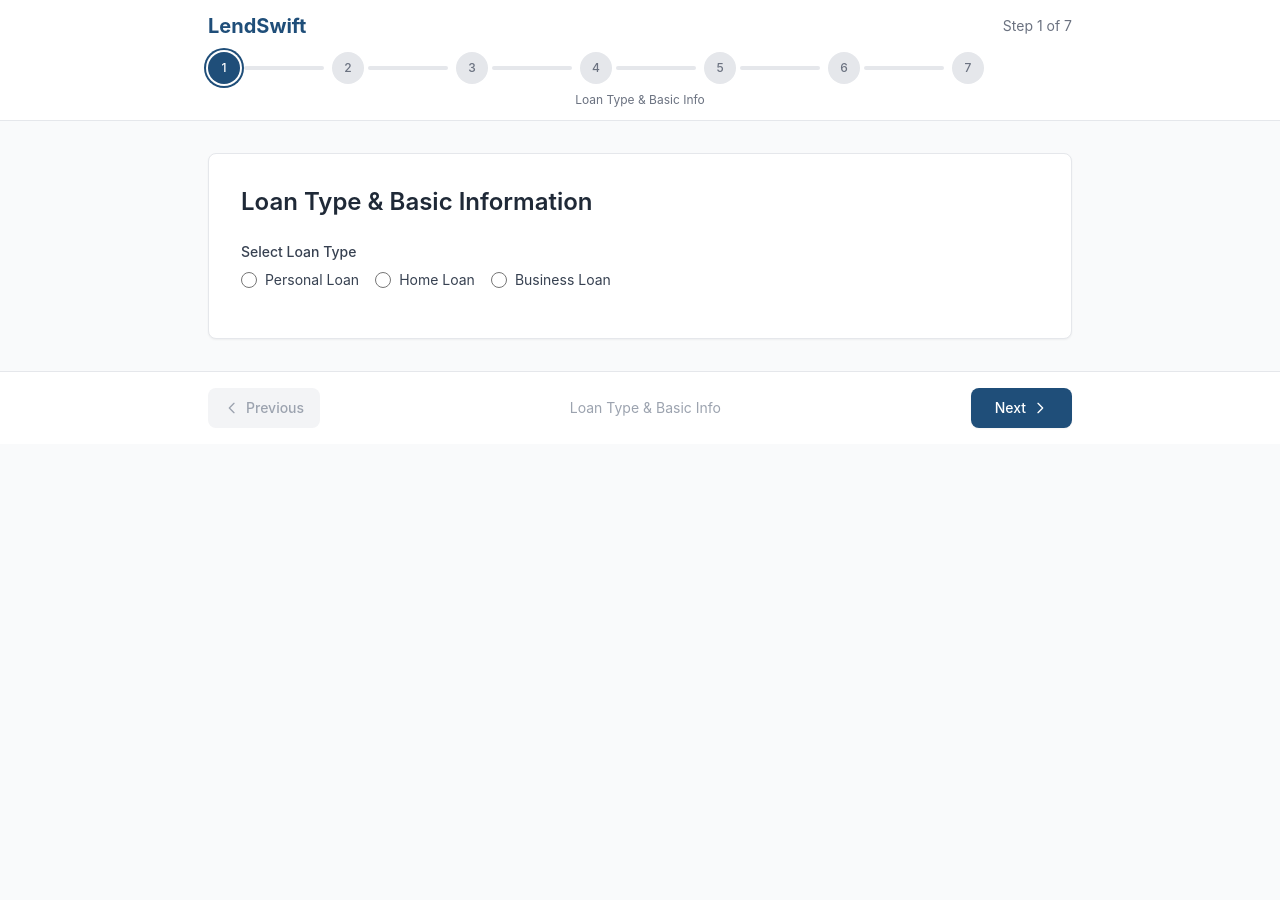
Scenario: Keyboard Navigation › completes Step 1 using only keyboard
Click the radio button with test id "step1-loan-type-Personal": (249, 280) x1=241 y1=272 x2=257 y2=288
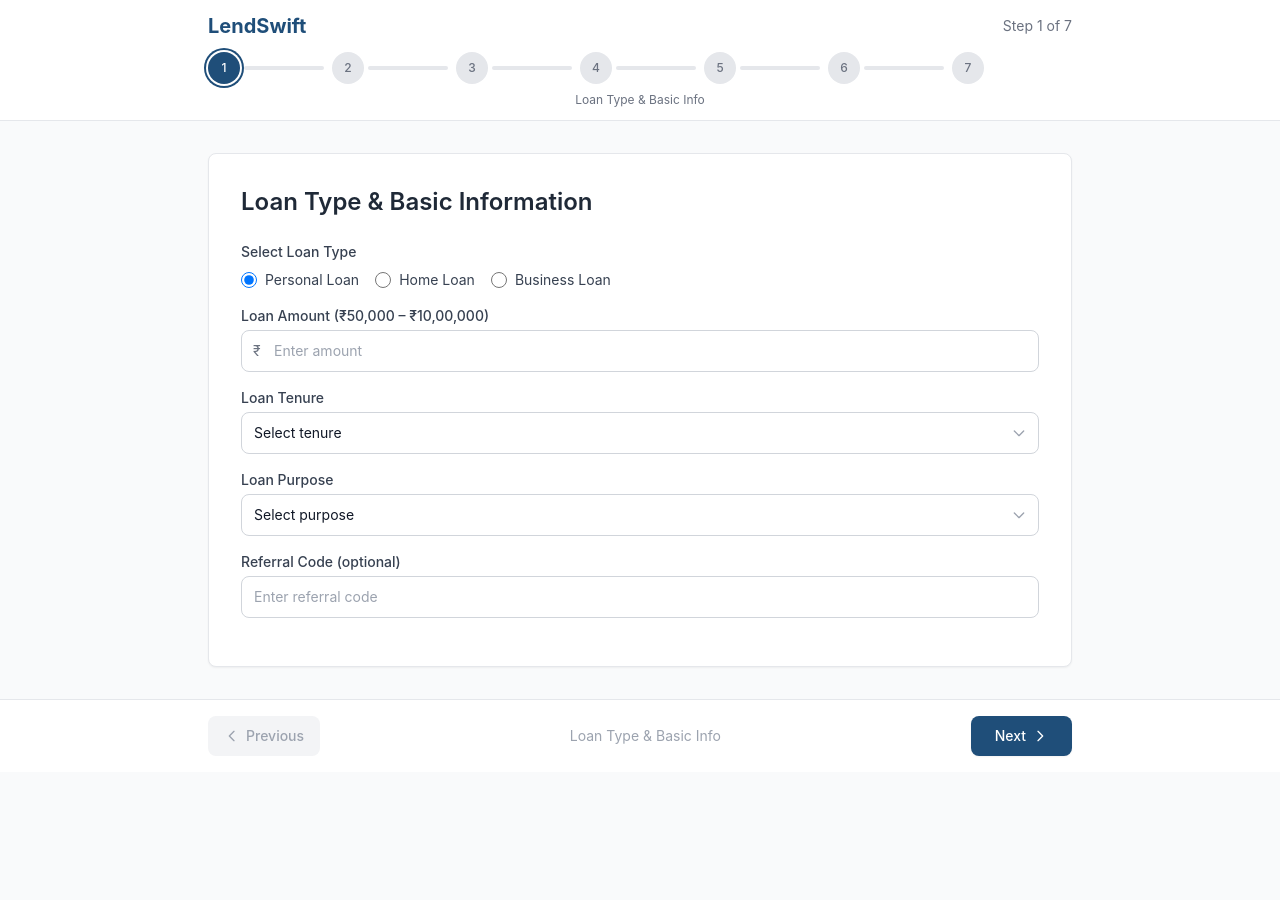
In the field labelled "Loan Amount (₹50,000 – ₹10,00,000)": (640, 351) x1=241 y1=330 x2=1039 y2=372, type "800000"
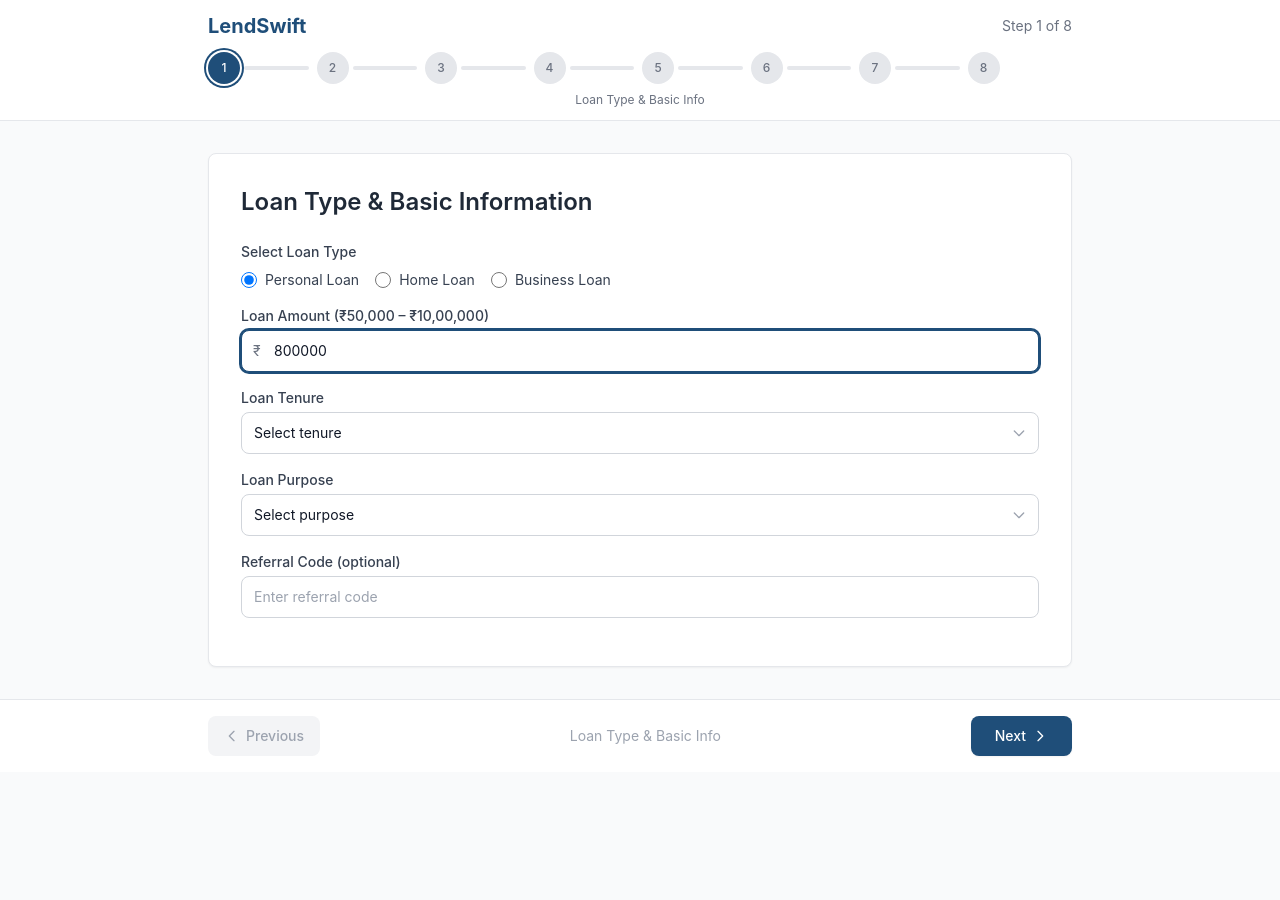
Select "36 months (3yr)" in the dropdown labelled "Loan Tenure": (640, 433) x1=241 y1=412 x2=1039 y2=454
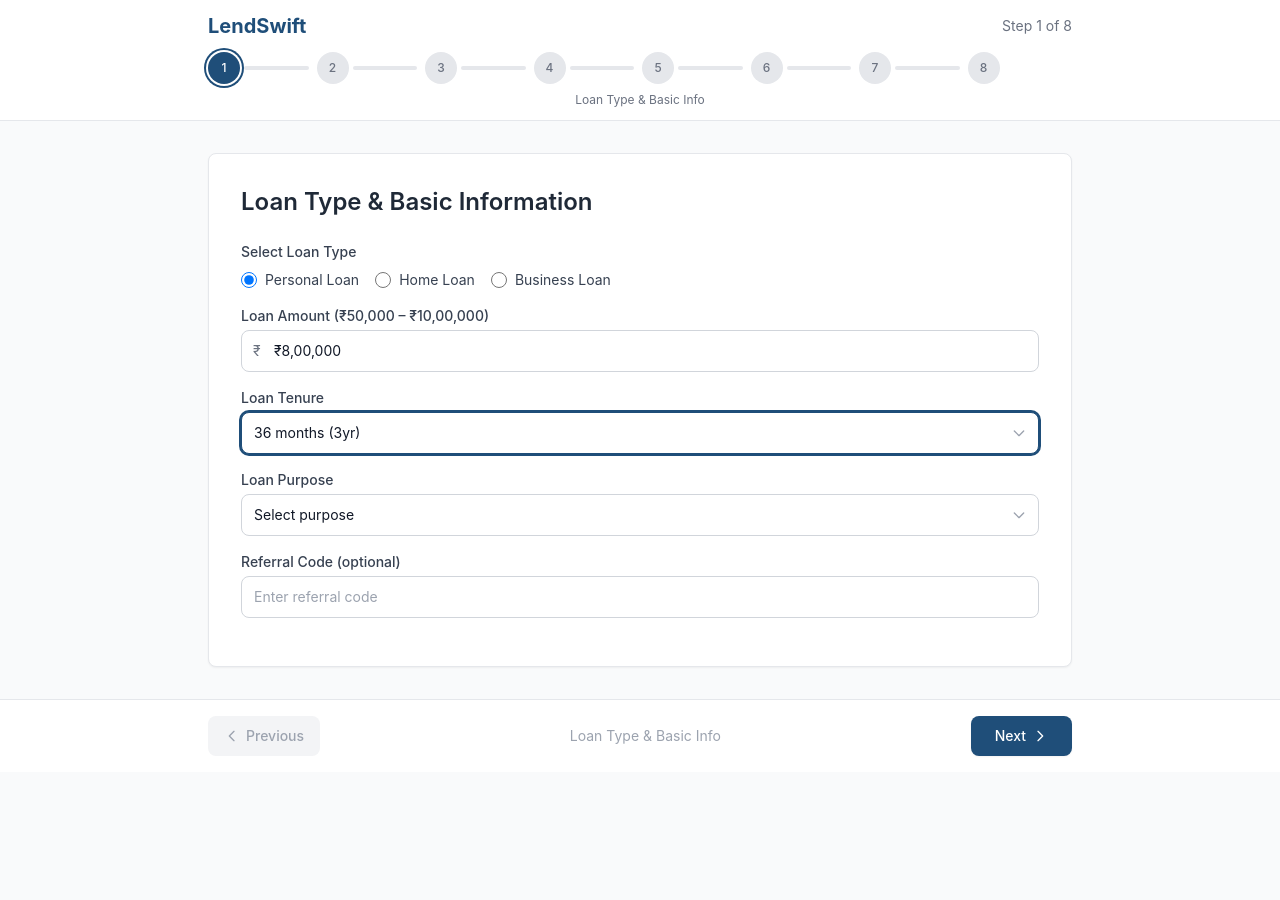
Select "Debt Consolidation" in the dropdown labelled "Loan Purpose": (640, 515) x1=241 y1=494 x2=1039 y2=536
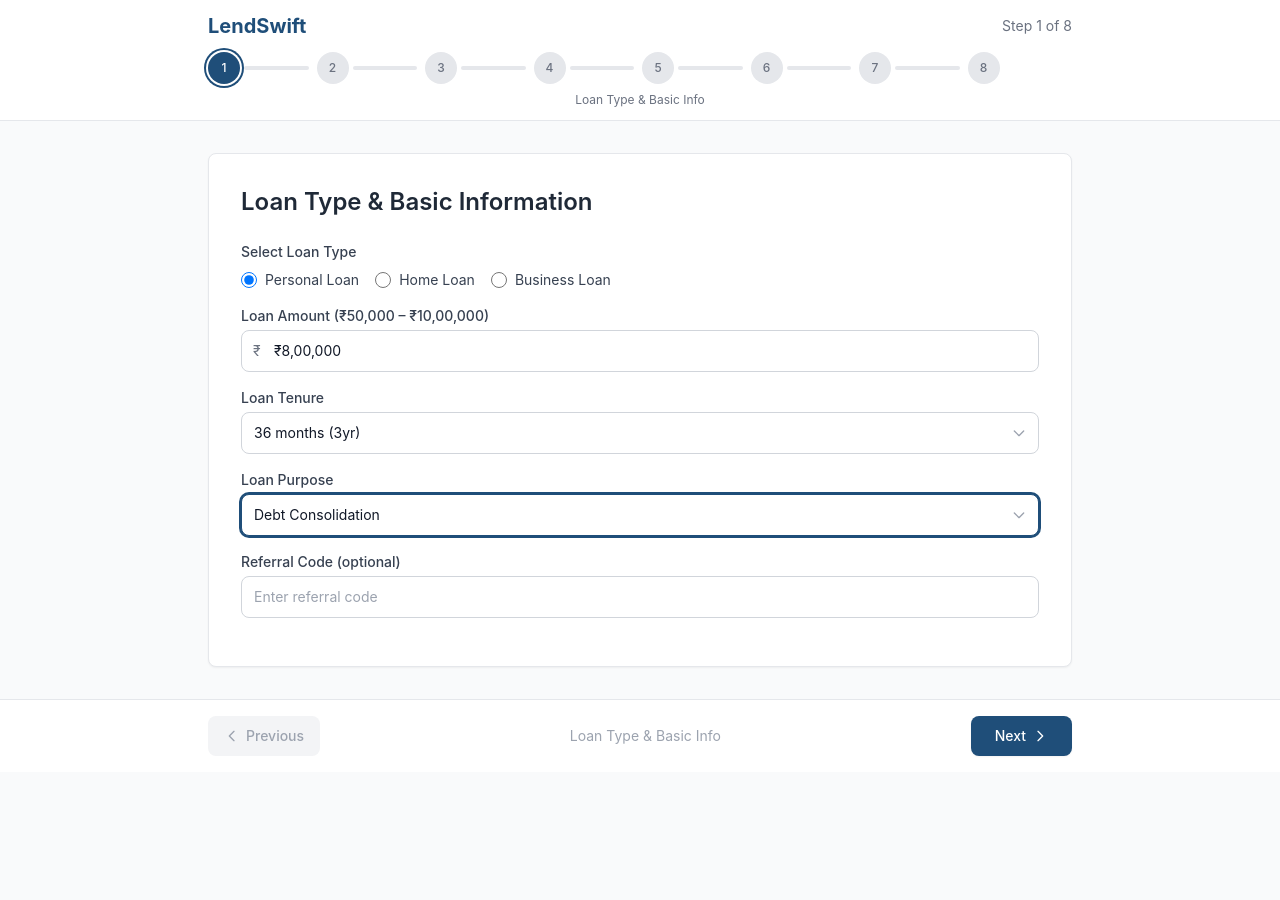
Click the button "Next": (1022, 736) x1=971 y1=716 x2=1072 y2=756
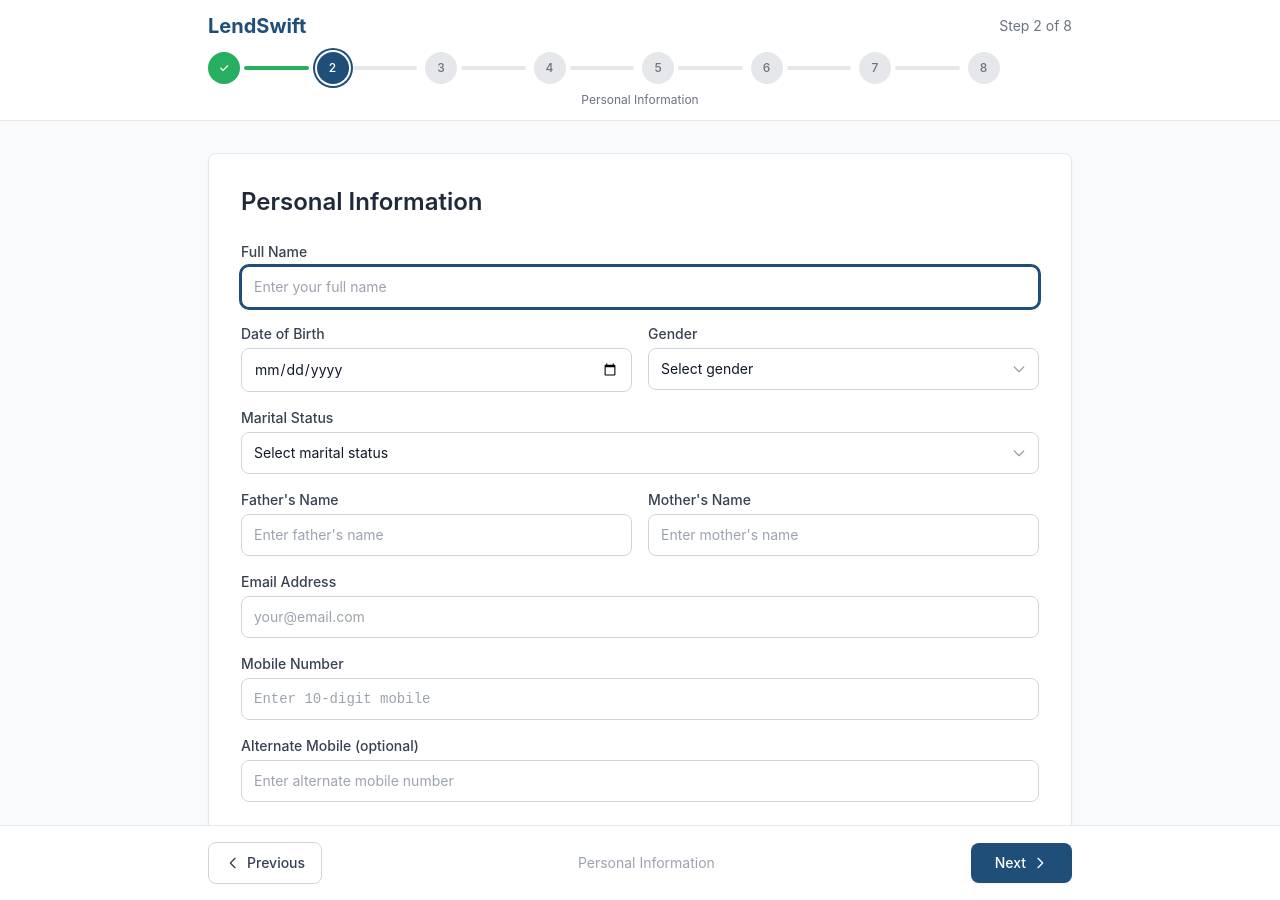
Expected: the text "Personal Information" is shown, x1=580 y1=91 x2=699 y2=107
